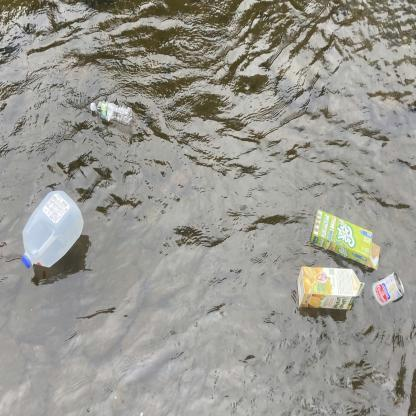Metal: (370, 272, 406, 308)
Plastic: (18, 187, 86, 275), (86, 94, 138, 126)
